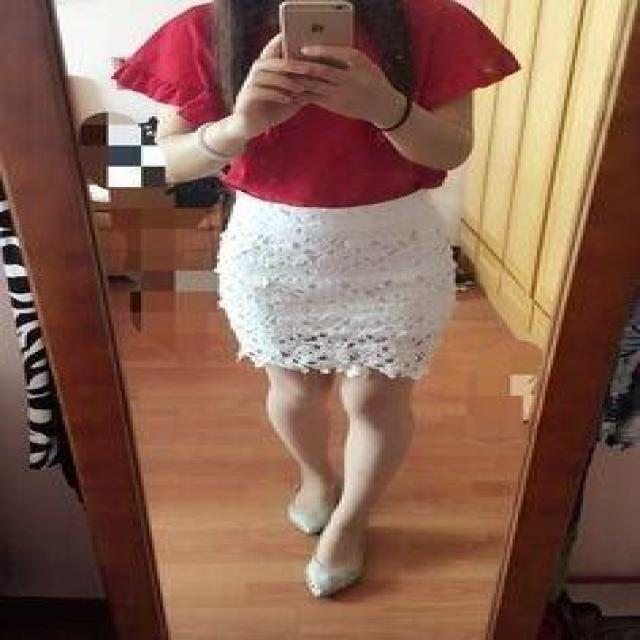short sleeve top: (119, 2, 518, 205)
skirt: (220, 192, 456, 376)
